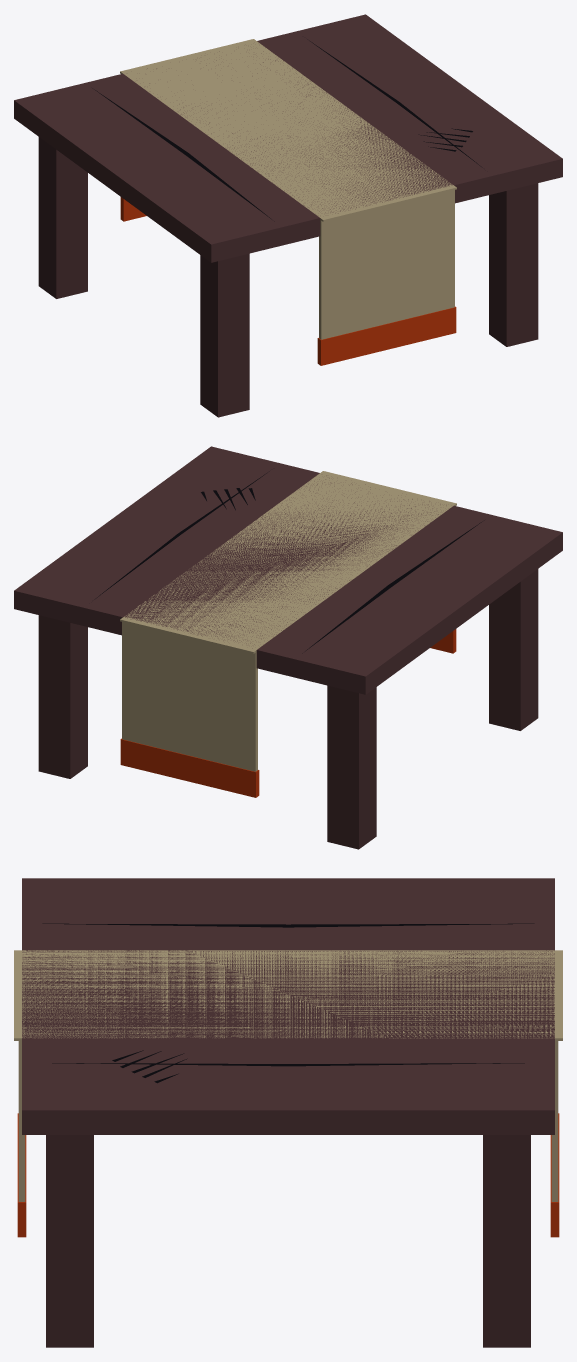
Rendered from table_medium_tablecloth.glb.
3 renders of one model, top to bottom at view 1: azimuth 30°, elevation 25°; view 2: azimuth 150°, elevation 25°; view 3: azimuth 270°, elevation 25°, orthographic. The views are drawn at different scales.
Parts seen in each view (by area): view 1: table_medium_tablecloth.001; view 2: table_medium_tablecloth.001; view 3: table_medium_tablecloth.001.
Part boxes in pixels (x1,y1,x2,y2): table_medium_tablecloth.001: (14, 14, 562, 417); table_medium_tablecloth.001: (14, 446, 562, 849); table_medium_tablecloth.001: (14, 878, 562, 1347).
Bounding box in the file's own units: 2 × 1 × 2.
